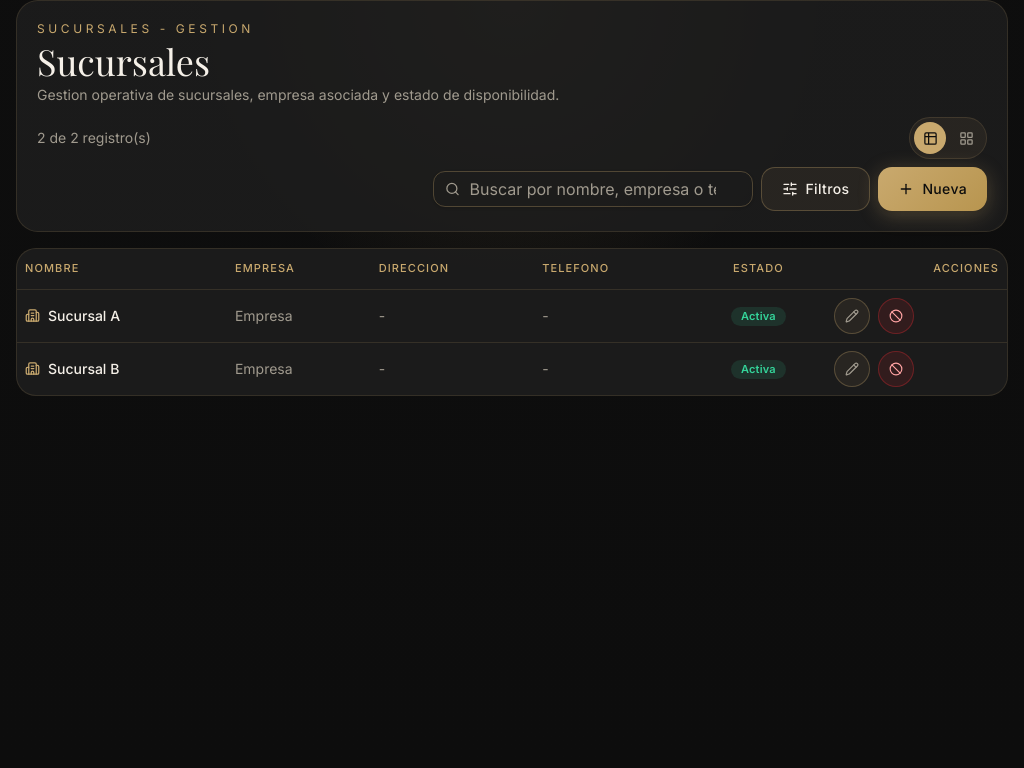
Test: guardar A y abrir B no cierra ni modifica editor B
The width and height of the screenshot is (1024, 768).
Click the button named "Editar" in the row of "Sucursal A".
click(852, 316)  # box [834, 298, 870, 334]
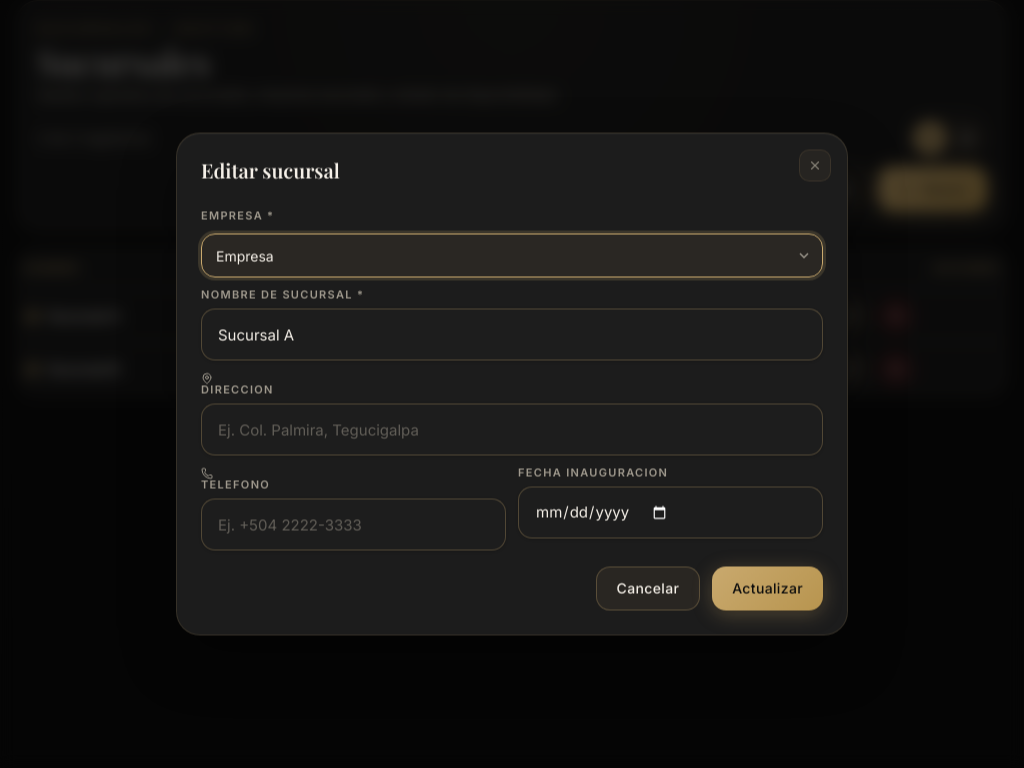
Now the field showing "Sucursal A" is shown, box [201, 308, 823, 360]
Click the button "Actualizar".
click(768, 588)  # box [712, 566, 823, 610]
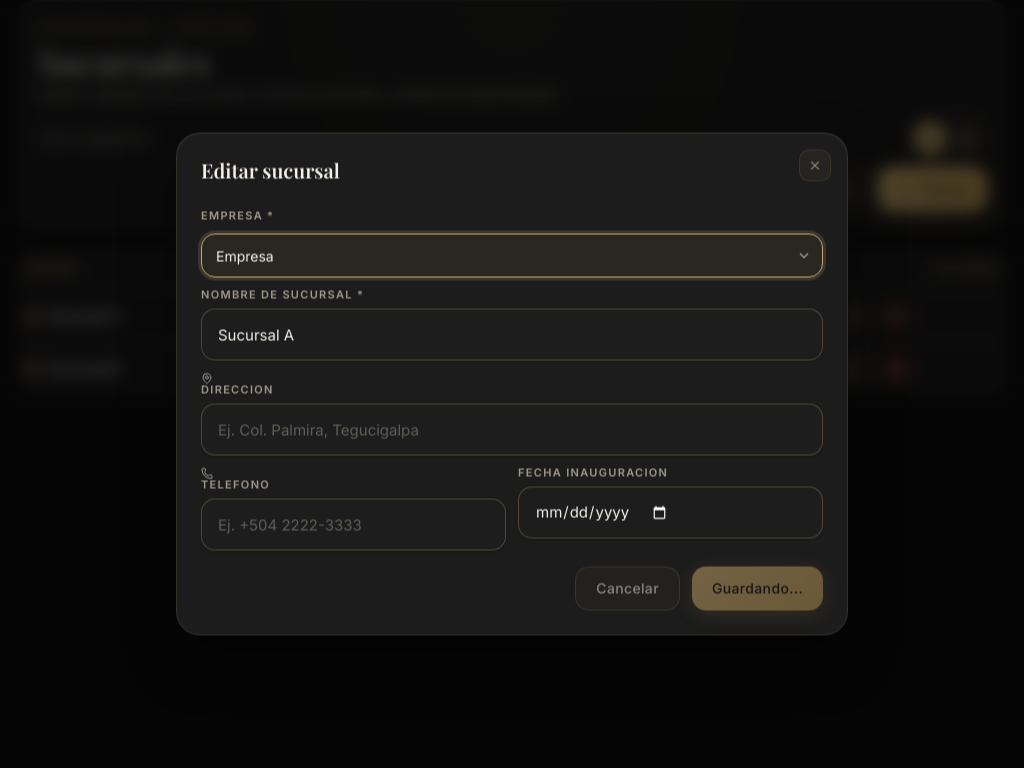
Press Escape
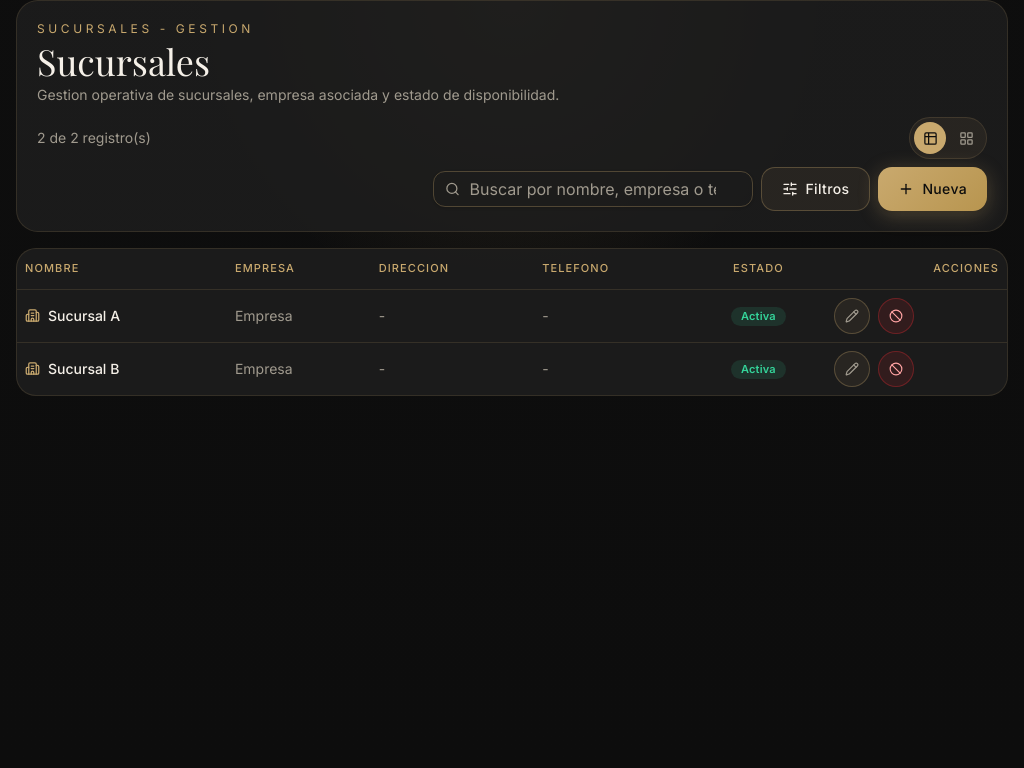
Click the button named "Editar" in the row of "Sucursal B".
click(852, 368)  # box [834, 350, 870, 386]
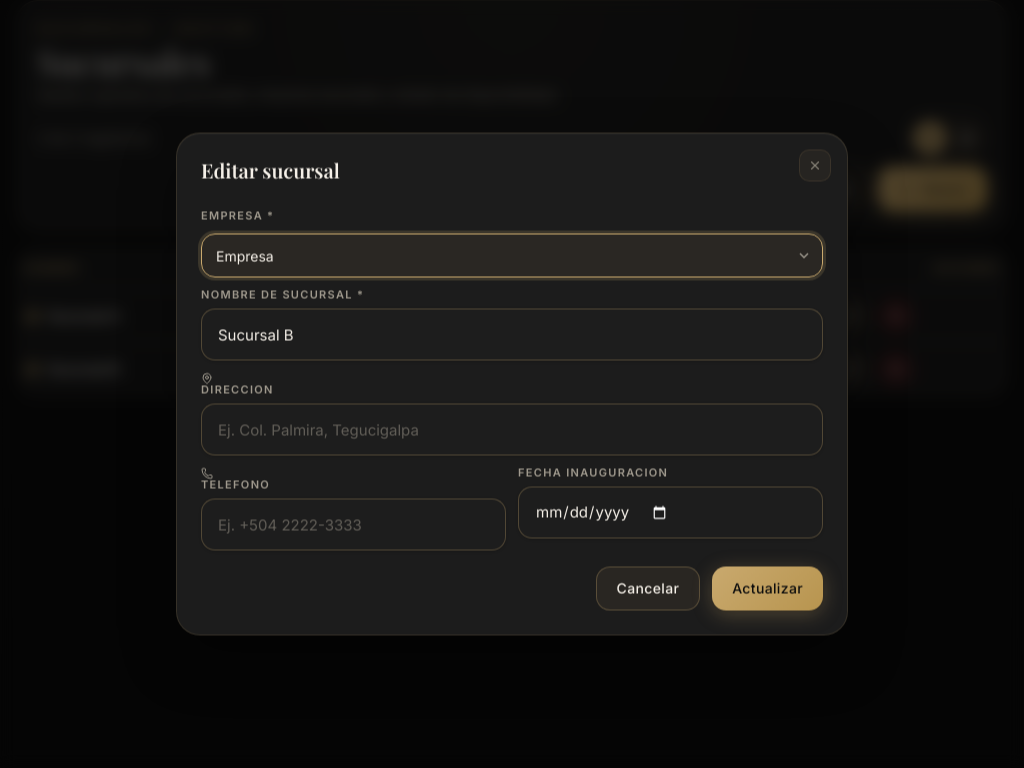
Now the field showing "Sucursal B" is shown, box [201, 308, 823, 360]
